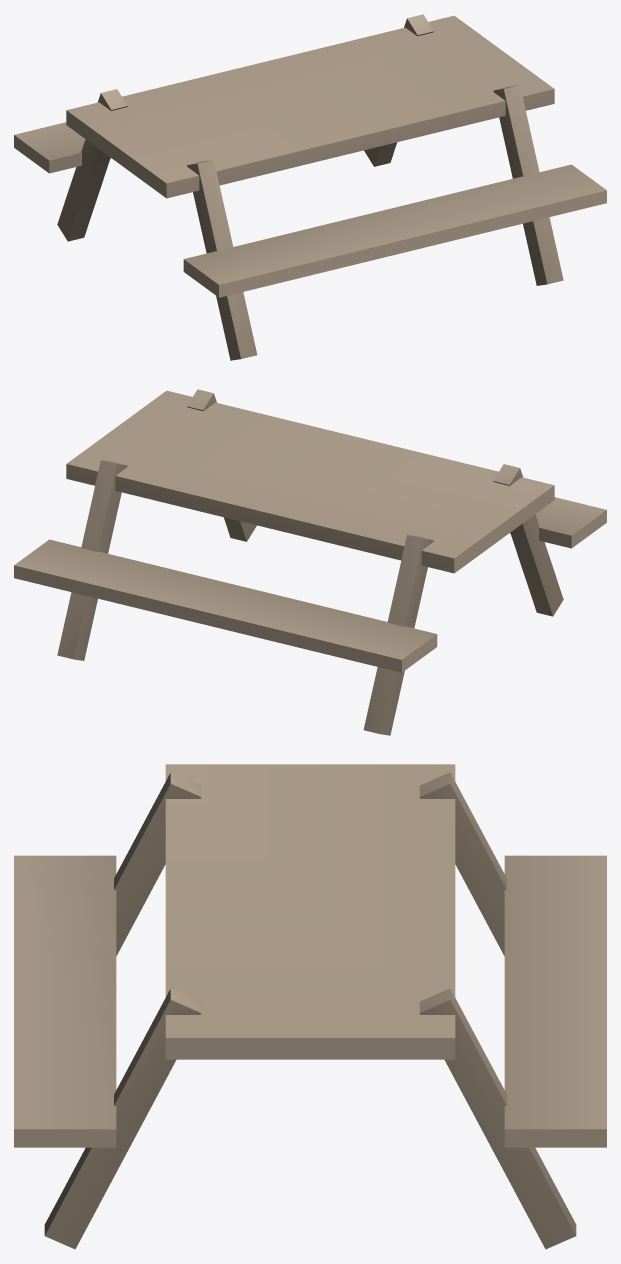
The model's file is picnic_table.lod2.glb.
The picture shows the model from 3 angles, top to bottom: view 1: azimuth 30°, elevation 25°; view 2: azimuth 150°, elevation 25°; view 3: azimuth 270°, elevation 25°; orthographic projection. The views are drawn at different scales.
Parts seen in each view (by area): view 1: props_picnic_table.lod2; view 2: props_picnic_table.lod2; view 3: props_picnic_table.lod2.
Boxes of the visible parts, x1,y1,x2,y2 form: props_picnic_table.lod2: (14, 14, 606, 360); props_picnic_table.lod2: (14, 389, 606, 735); props_picnic_table.lod2: (14, 764, 606, 1249).
Size of the model in its own units: 1.9 by 0.8089 by 1.74.
